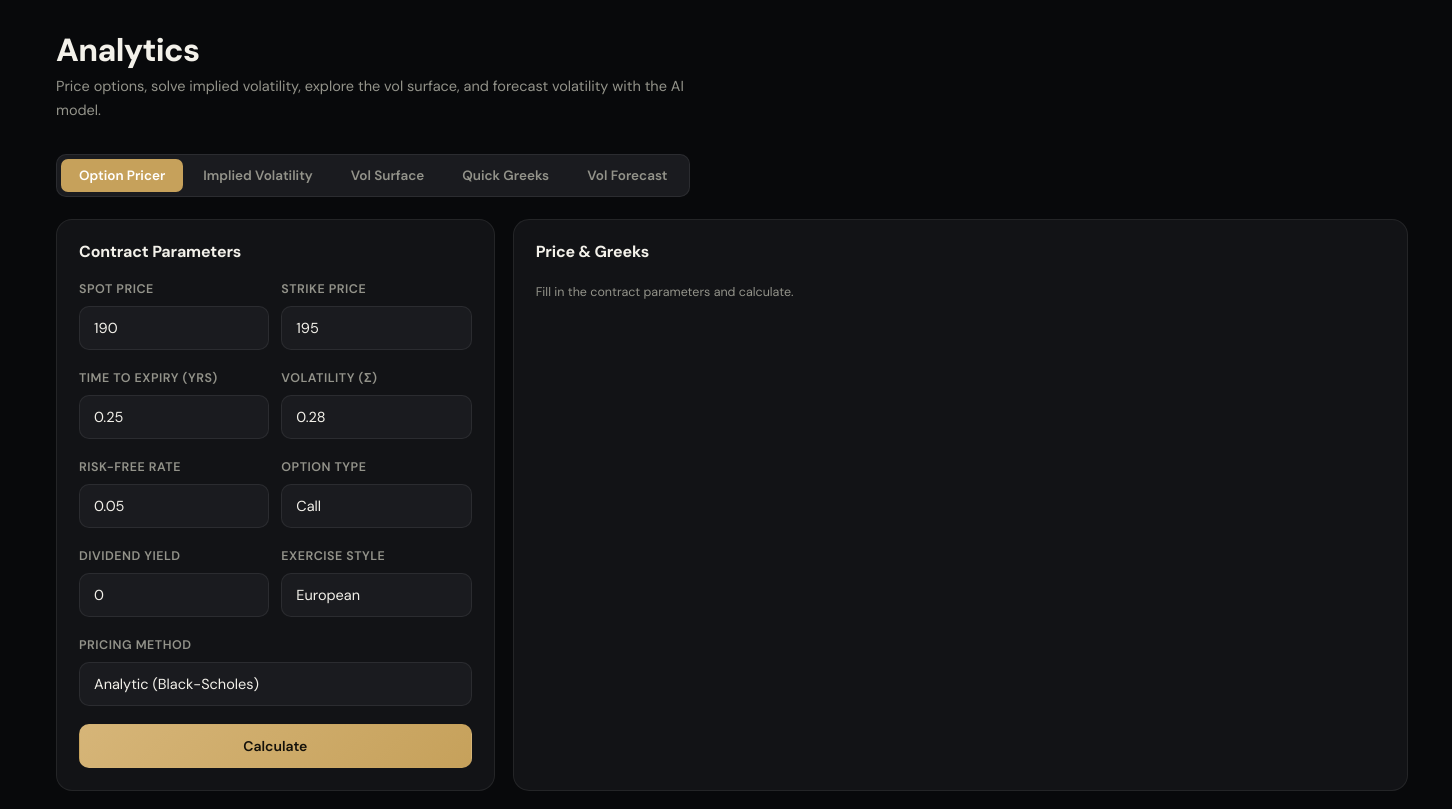
Option pricer › shows an error, then clears it on a successful retry
This screenshot has width=1452, height=809.
Click the button "Calculate" at (275, 746), box [79, 724, 472, 768]
(page scrolled)
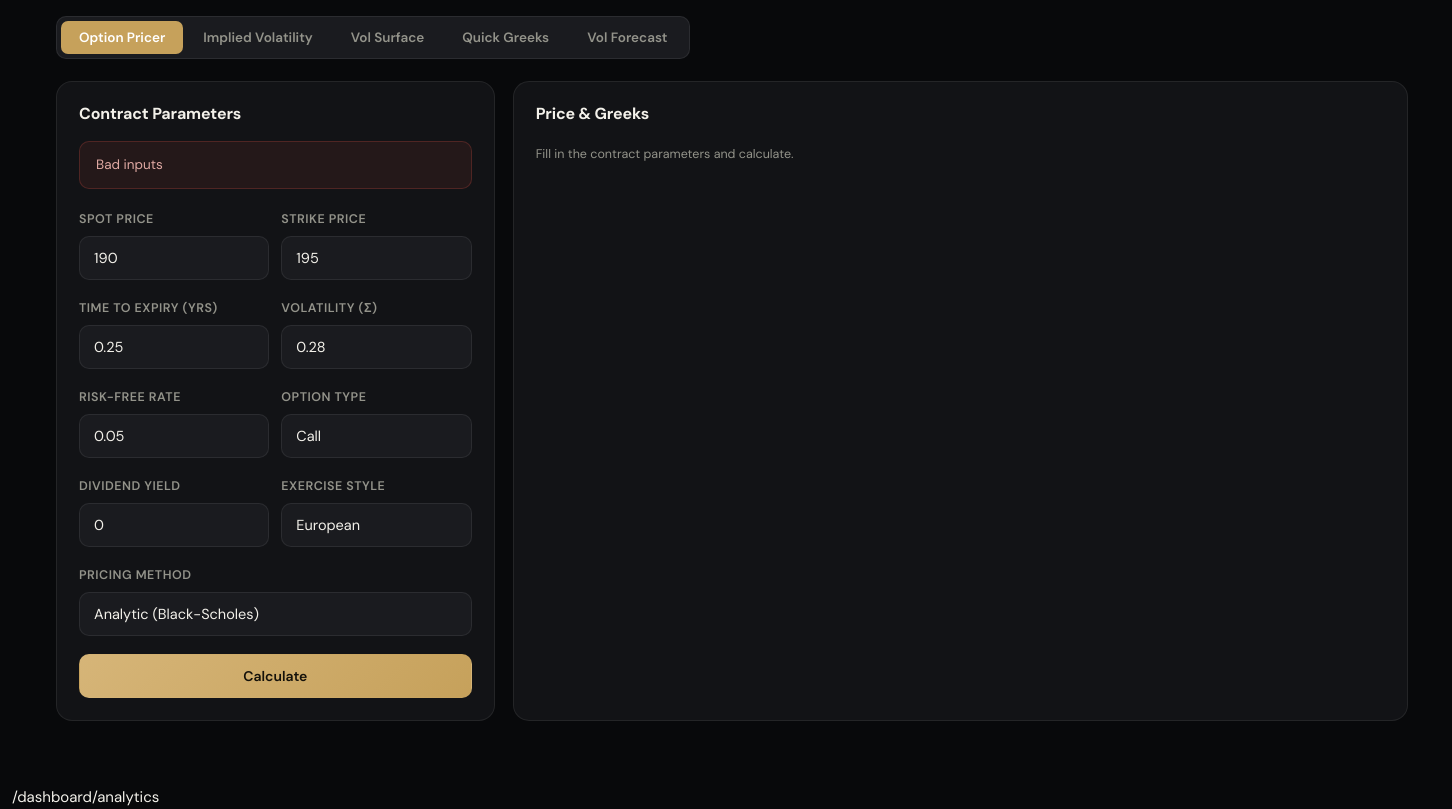
Expected: the text "Bad inputs" is shown, [79, 141, 472, 189]
Click the button "Calculate" at (275, 676), box [79, 654, 472, 698]
(page scrolled)
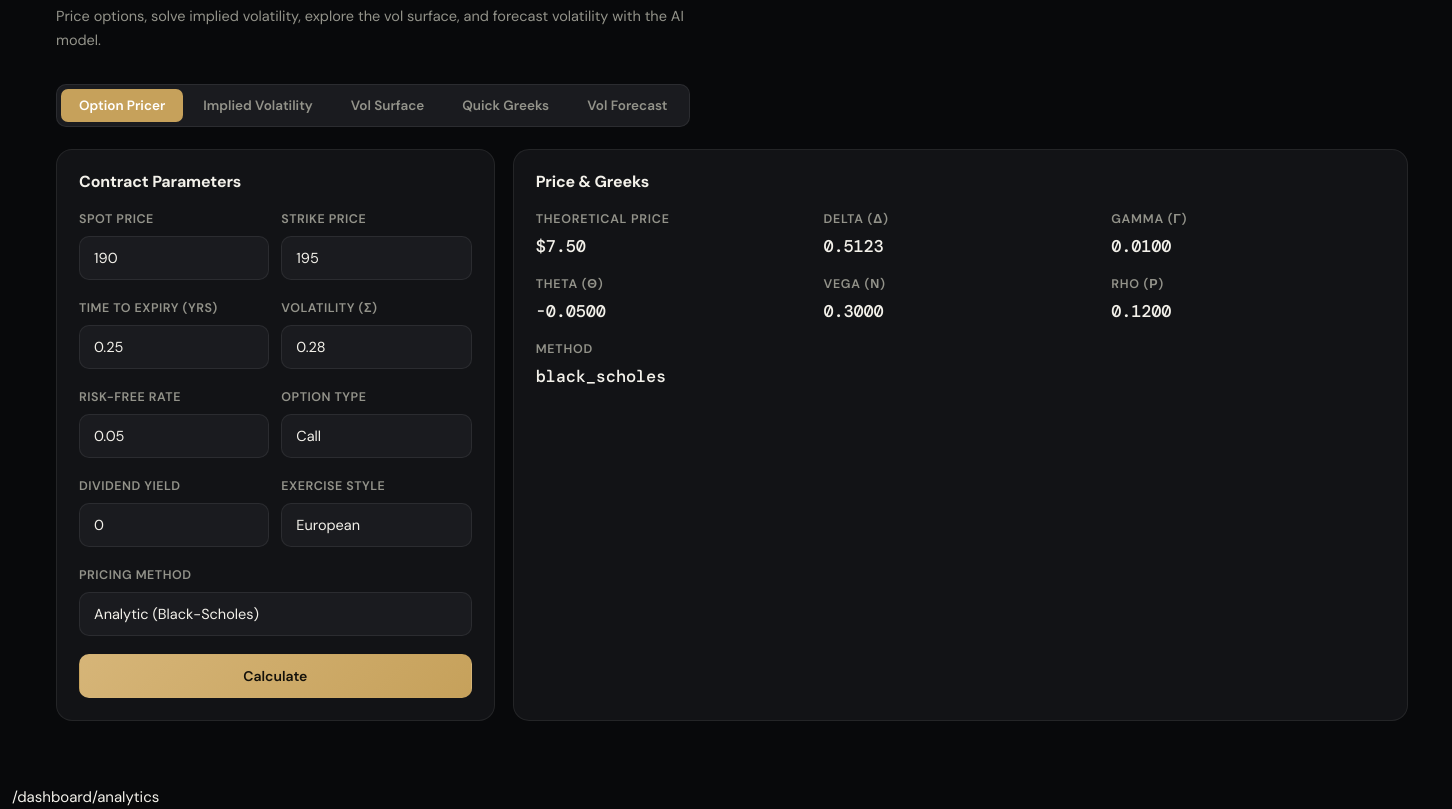
Expected: the text "Bad inputs" is gone
